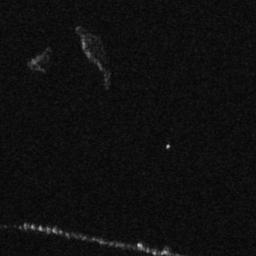ship: (164, 143, 172, 149)
